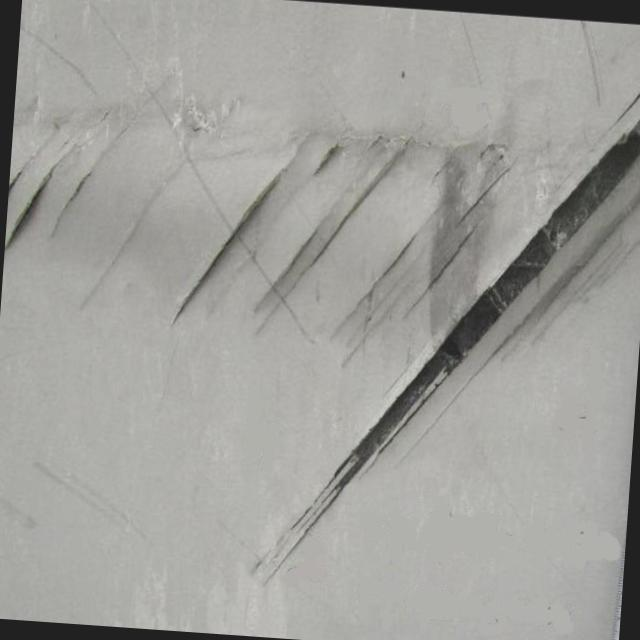crack: (300, 92, 640, 569), (168, 157, 290, 336), (7, 130, 85, 256)
